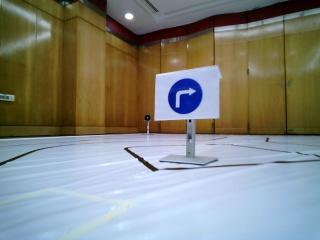right: (156, 74, 218, 121)
